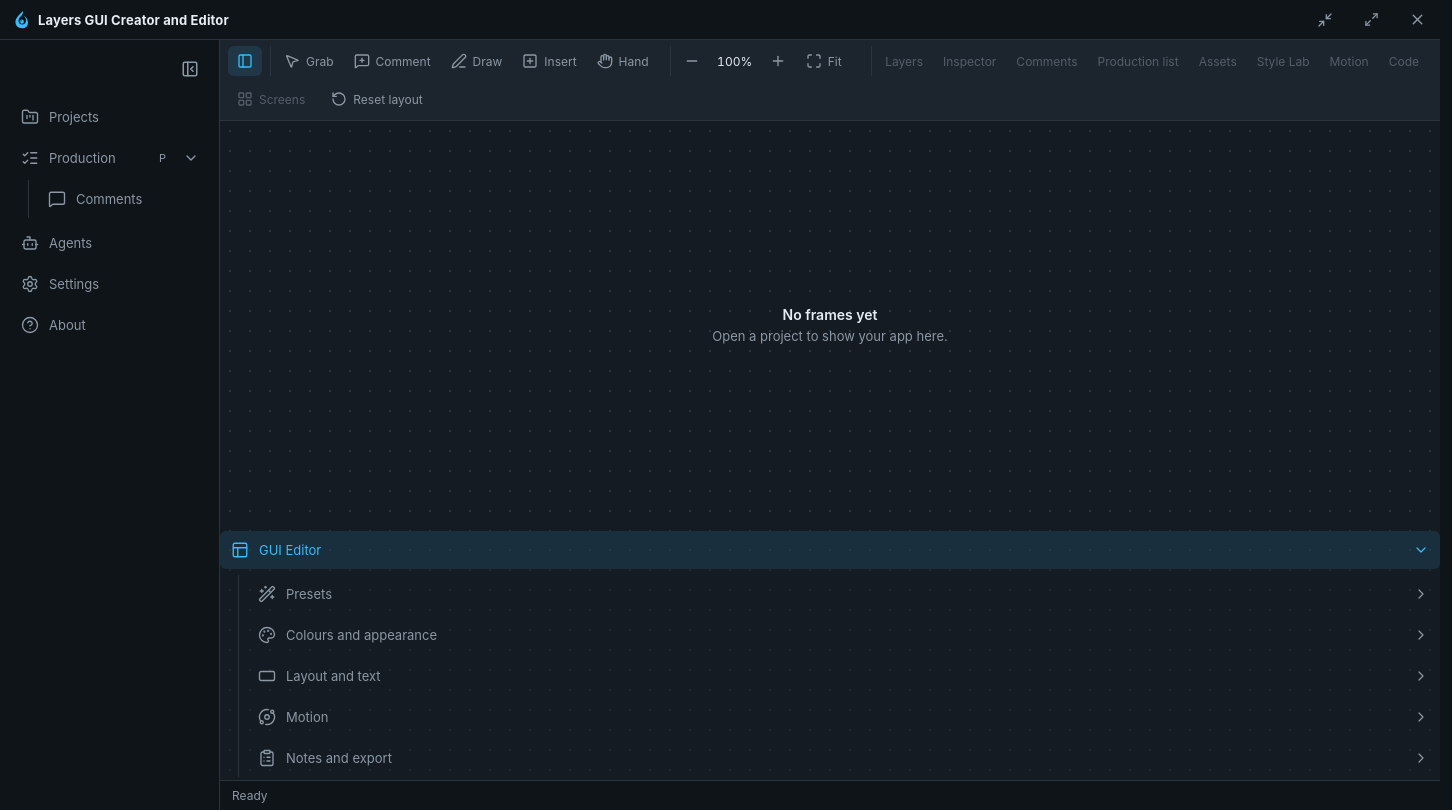
Production opens its own page and its child pages remain accessible after expanding
Click the button named "Collapse Production". click: (191, 158)
box: [177,139,205,177]
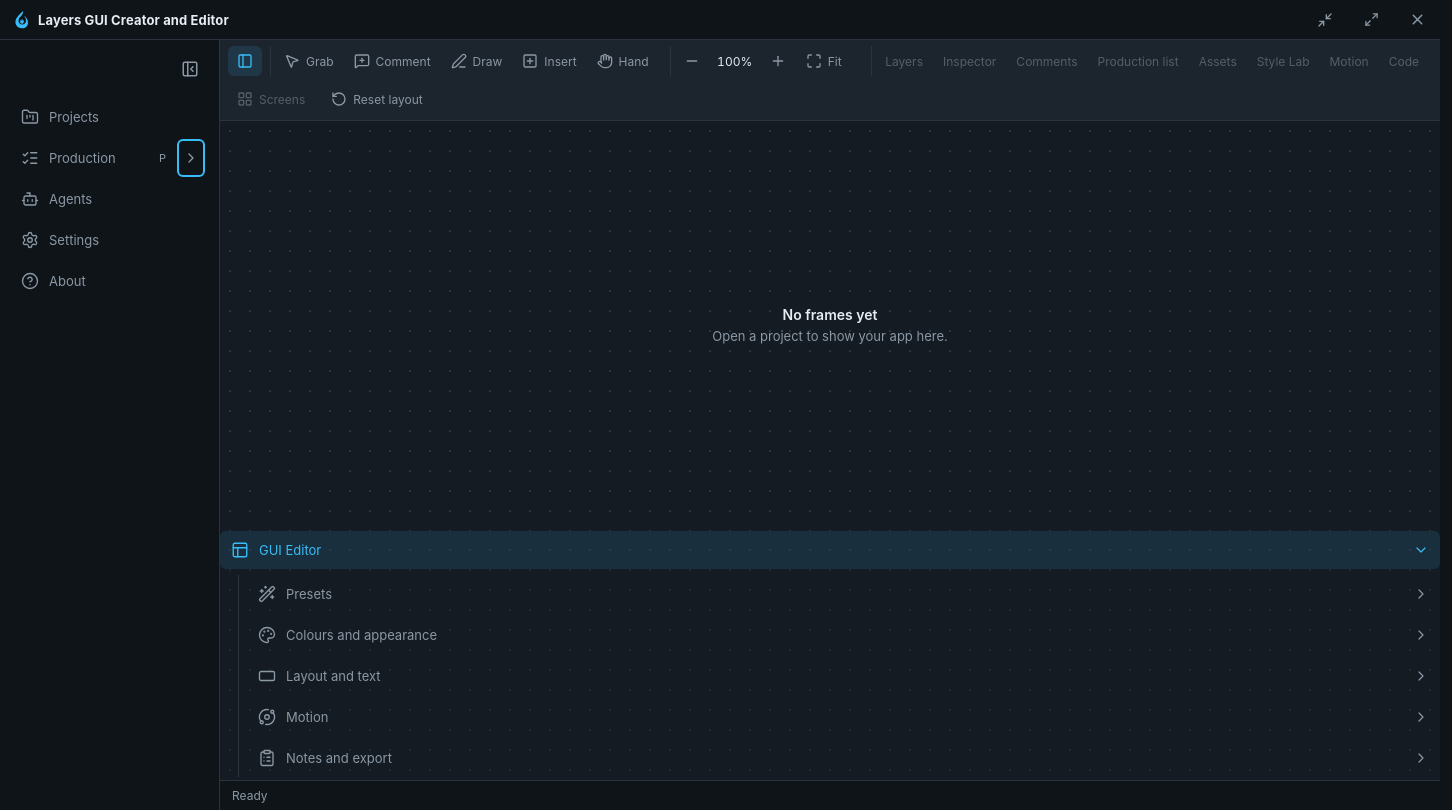
Click the button "Production P". click: (94, 158)
box: [10,139,177,177]
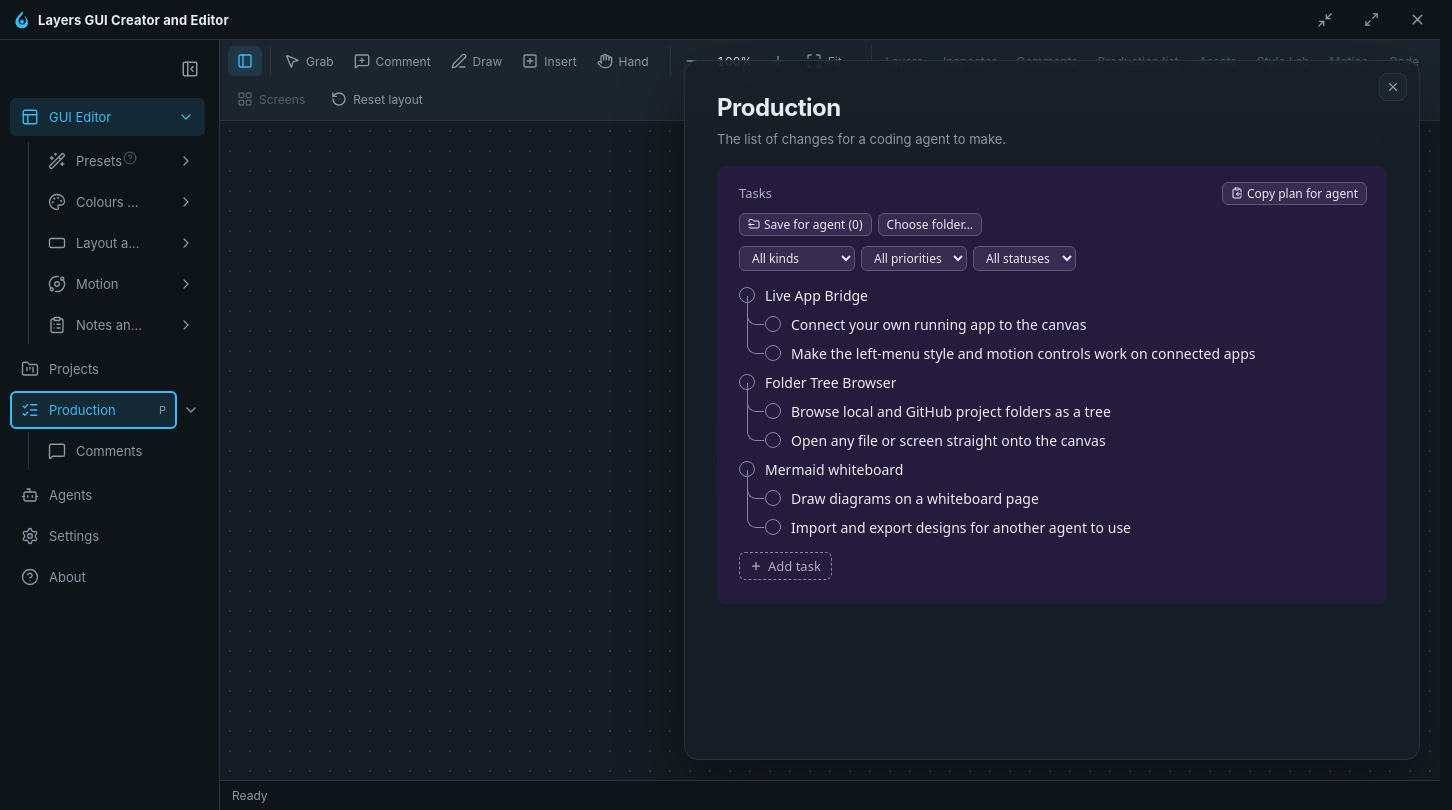
Result: the element with class "app-shell__workspace-content" has attribute data-route="production"
Click the button "Comments". click: (121, 451)
box: [37,432,205,470]
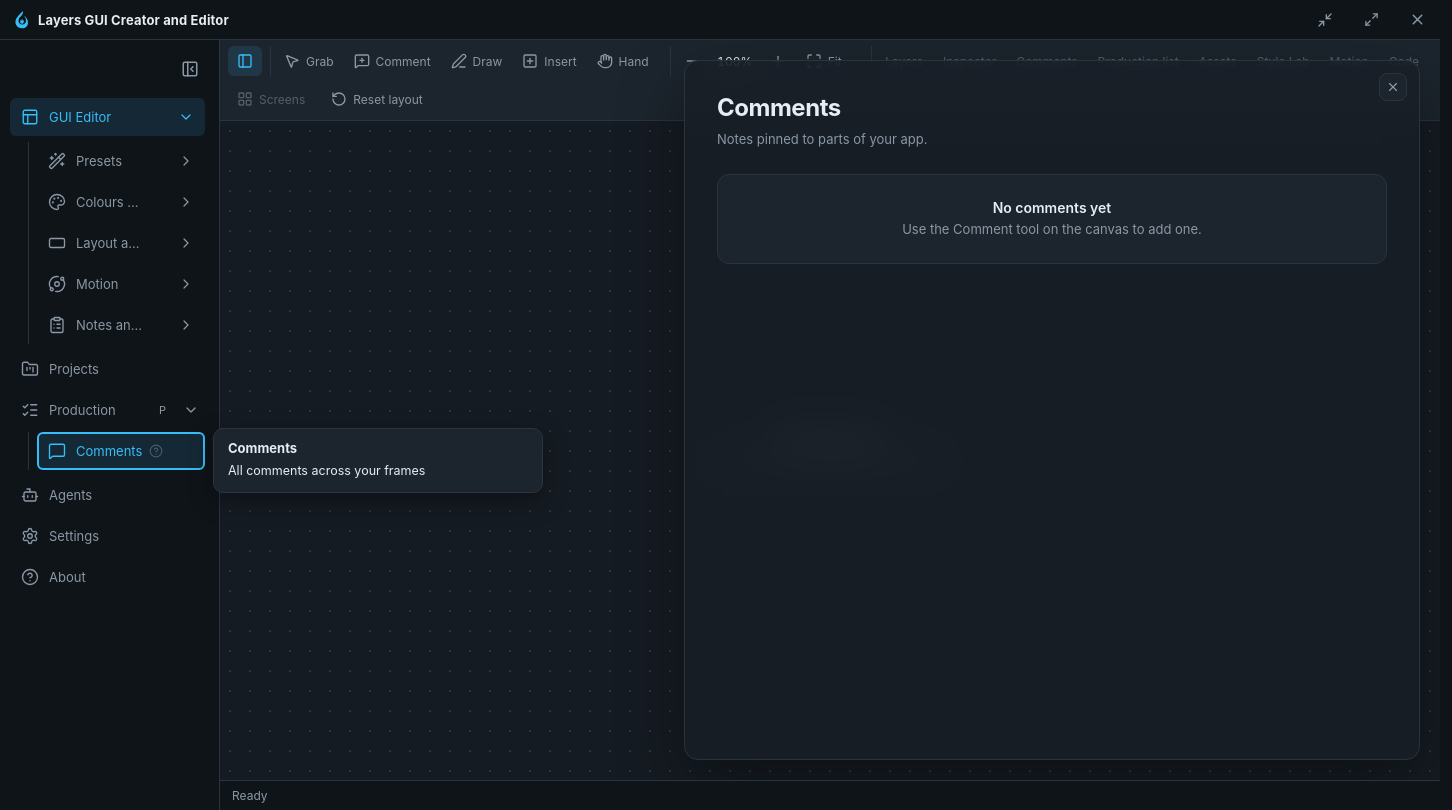
Result: the element with class "app-shell__workspace-content" has attribute data-route="comments"
